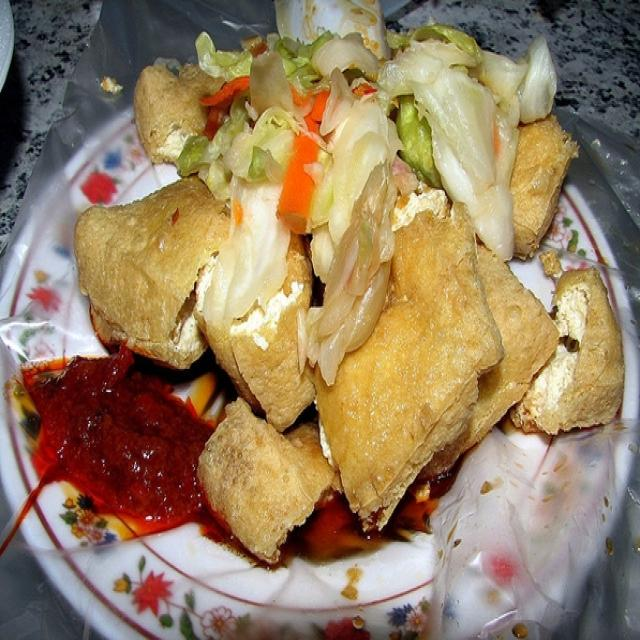豆腐料理: (12, 30, 624, 616)
